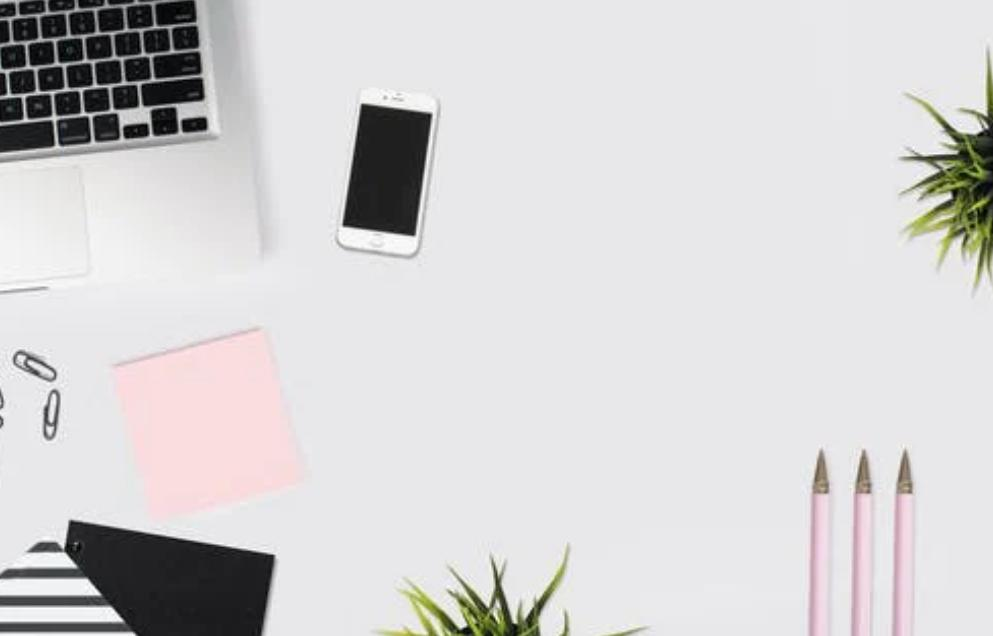mobile: (335, 88, 440, 258)
